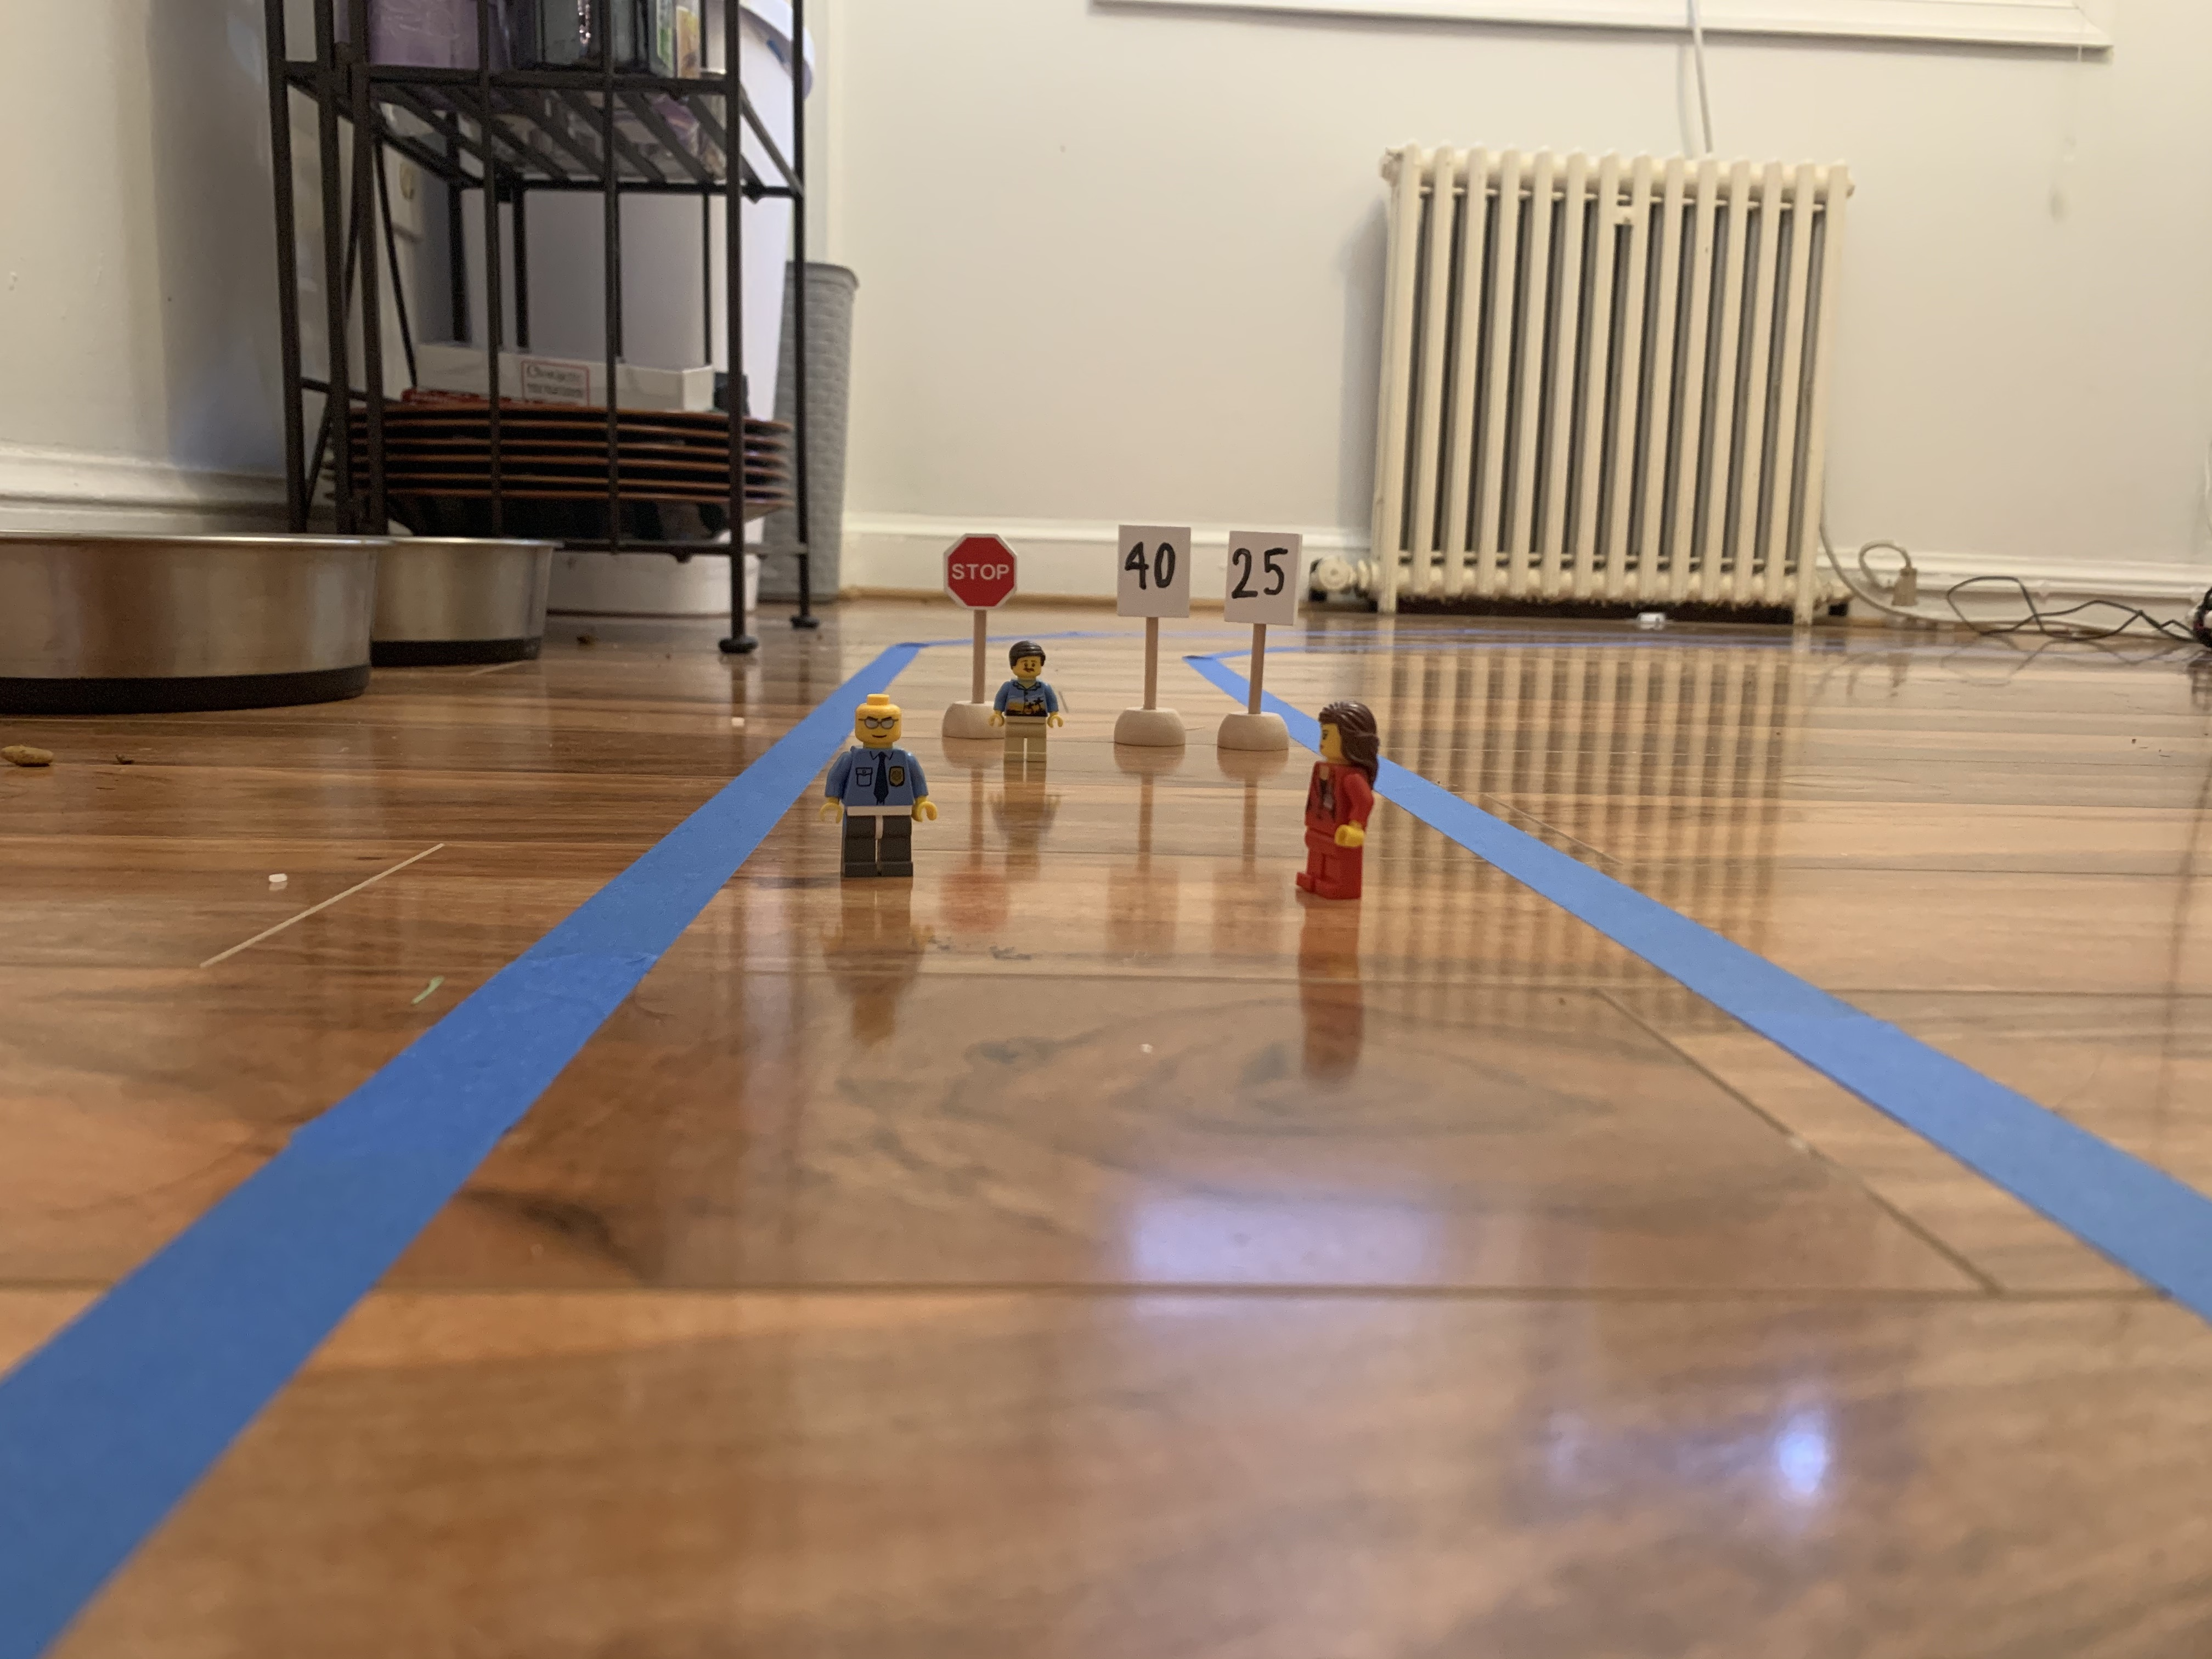Person: (811, 687, 943, 899), (1289, 696, 1392, 911), (984, 640, 1071, 788)
Speed Limit 25: (1225, 528, 1300, 623)
Speed Limit 40: (1122, 524, 1188, 617)
Stop Sign: (945, 529, 1020, 618)
